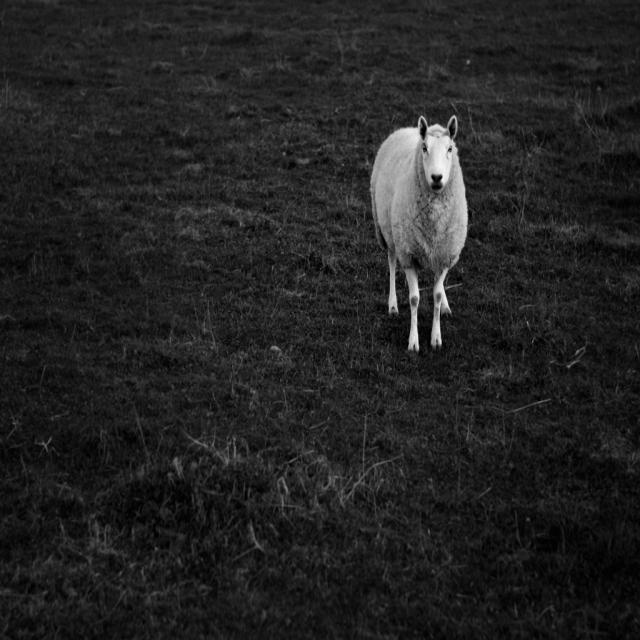Sheep: (370, 115, 469, 353)
